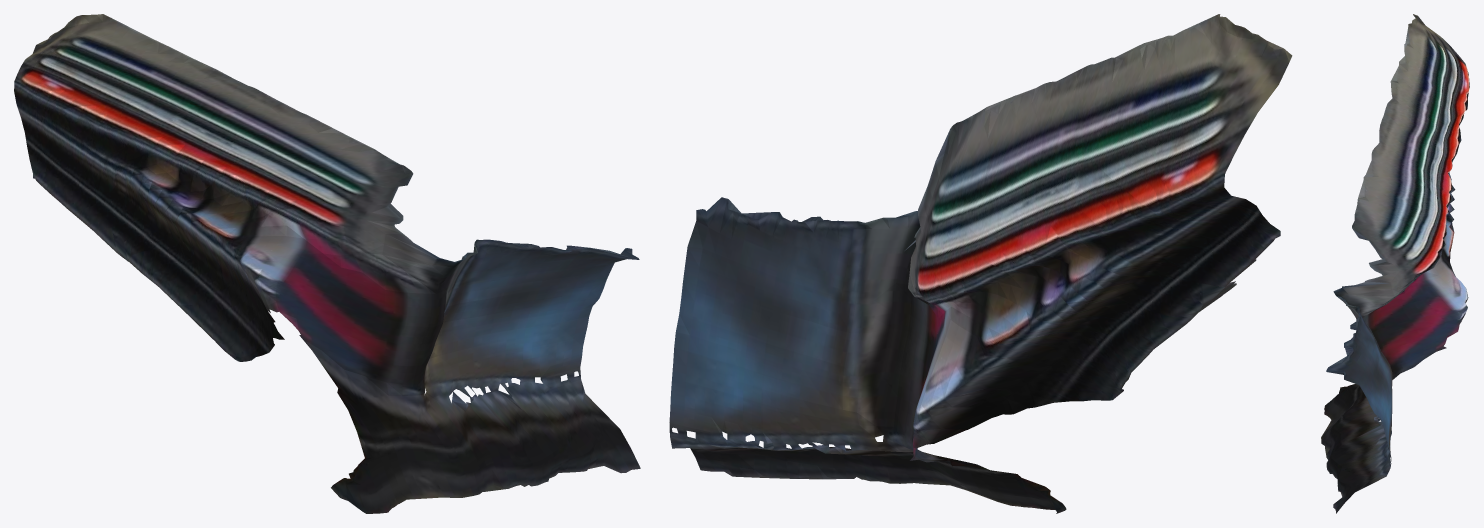
The model's file is observed-surface.glb.
3 renders of one model, left to right at view 1: azimuth 30°, elevation 25°; view 2: azimuth 150°, elevation 25°; view 3: azimuth 270°, elevation 25°, orthographic. The views are drawn at different scales.
Parts seen in each view (by area): view 1: geometry_0; view 2: geometry_0; view 3: geometry_0.
Part boxes in pixels (x1,y1,x2,y2): geometry_0: [14, 14, 640, 513]; geometry_0: [669, 14, 1292, 513]; geometry_0: [1321, 14, 1469, 513].
Size of the model in its own units: 0.5535 by 0.5171 by 0.2046.
Materials: 1 (1 with a texture image).
